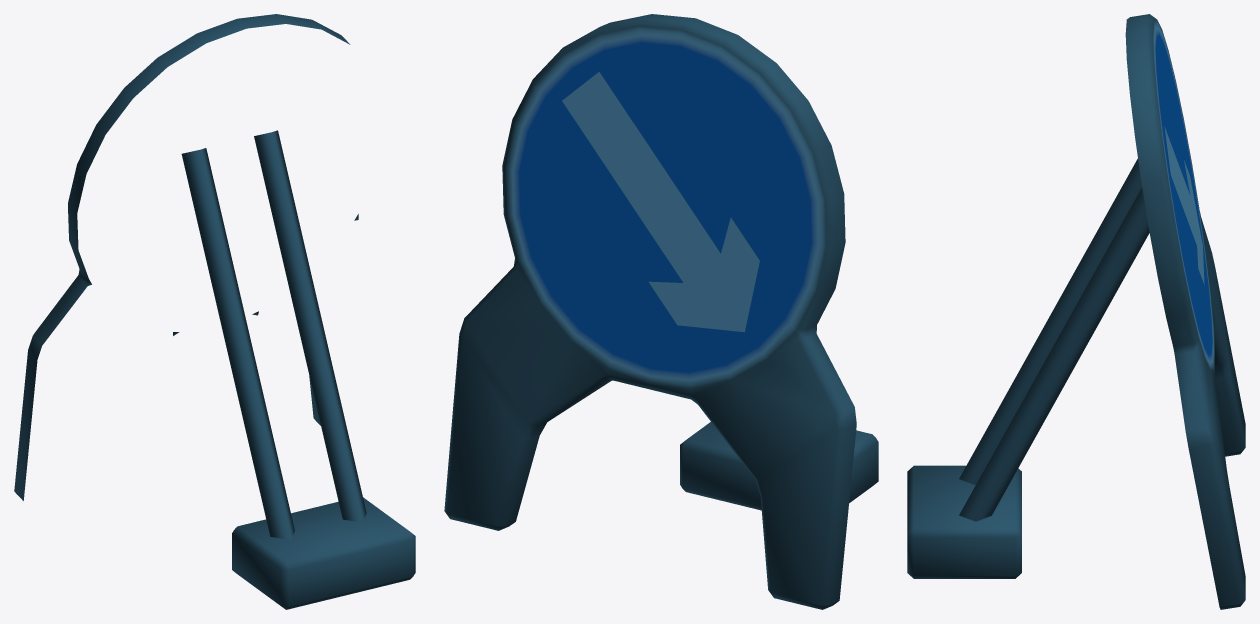
File: RoadWorksArrowNight.glb
The picture shows the model from 3 angles, left to right: view 1: azimuth 30°, elevation 25°; view 2: azimuth 150°, elevation 25°; view 3: azimuth 270°, elevation 25°; orthographic projection. The views are drawn at different scales.
Parts seen in each view (by area): view 1: RoadWorksArrowNight; view 2: RoadWorksArrowNight; view 3: RoadWorksArrowNight.
Boxes of the visible parts, x1,y1,x2,y2 form: RoadWorksArrowNight: [14, 14, 415, 609]; RoadWorksArrowNight: [444, 14, 878, 609]; RoadWorksArrowNight: [907, 14, 1245, 609].
Size of the model in its own units: 1.51 by 2 by 1.19.
